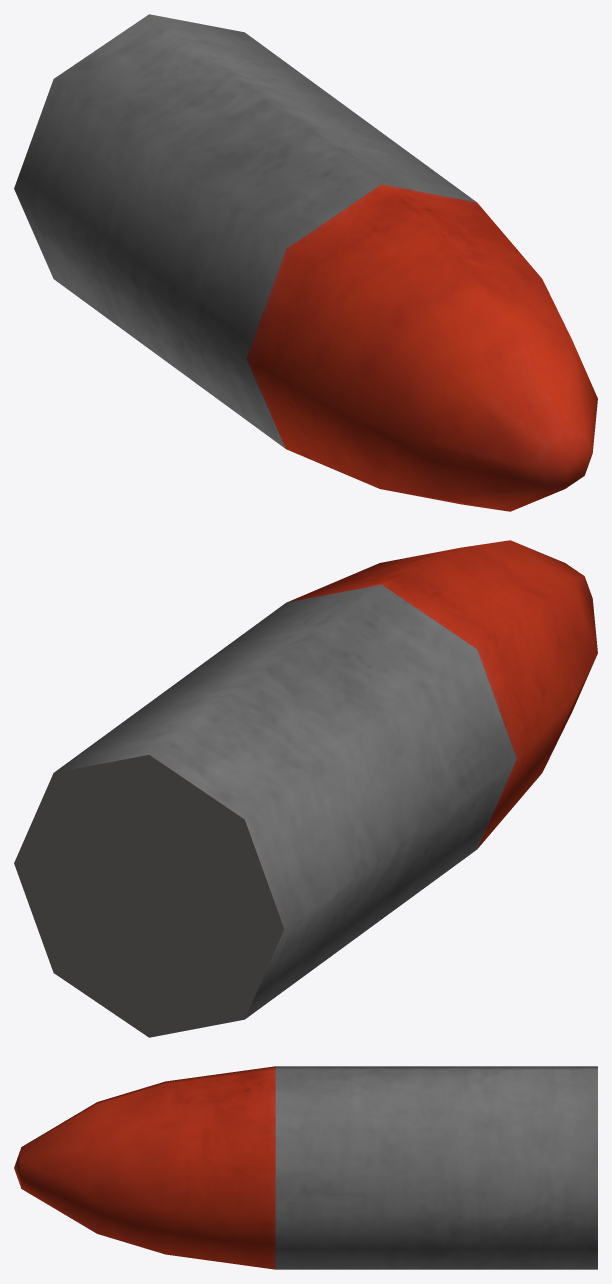
The model's file is cohete_capsula.obj.
3 views of the same model, one above another, from view 1: azimuth 30°, elevation 25°; view 2: azimuth 150°, elevation 25°; view 3: azimuth 270°, elevation 25° (orthographic). The views are drawn at different scales.
Parts seen in each view (by area): view 1: cohete_capsula; view 2: cohete_capsula; view 3: cohete_capsula.
Part boxes in pixels (x1,y1,x2,y2): cohete_capsula: (14, 14, 597, 511); cohete_capsula: (14, 540, 597, 1037); cohete_capsula: (14, 1066, 597, 1269).
Size of the model in its own units: 0.8053 by 0.8053 by 2.17.
Materials: 1 (1 with a texture image).
